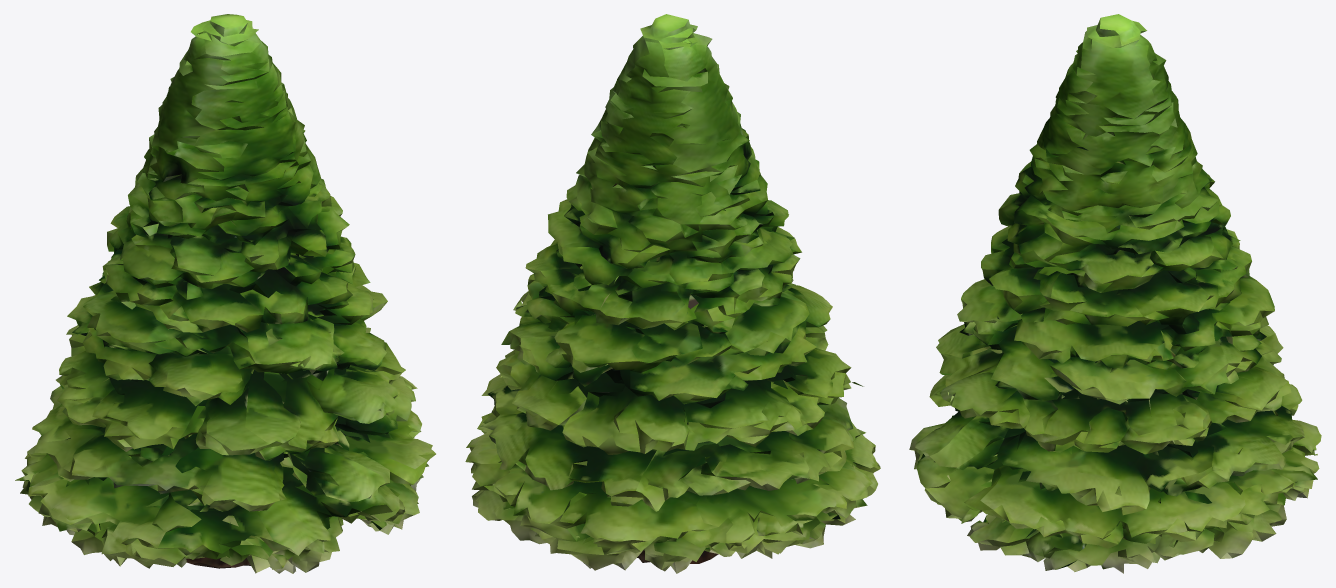
The model's file is spruce.fbx.
3 views of the same model, side by side, from view 1: azimuth 30°, elevation 25°; view 2: azimuth 150°, elevation 25°; view 3: azimuth 270°, elevation 25° (orthographic).
Parts seen in each view (by area): view 1: tmppwjzgbv1.ply; view 2: tmppwjzgbv1.ply; view 3: tmppwjzgbv1.ply.
Boxes of the visible parts, box(x1,y1,x2,y2) form: tmppwjzgbv1.ply: box(15, 14, 435, 573); tmppwjzgbv1.ply: box(465, 14, 880, 573); tmppwjzgbv1.ply: box(909, 14, 1321, 573).
Size of the model in its own units: 147 by 199 by 143.
Materials: 1 (1 with a texture image).
